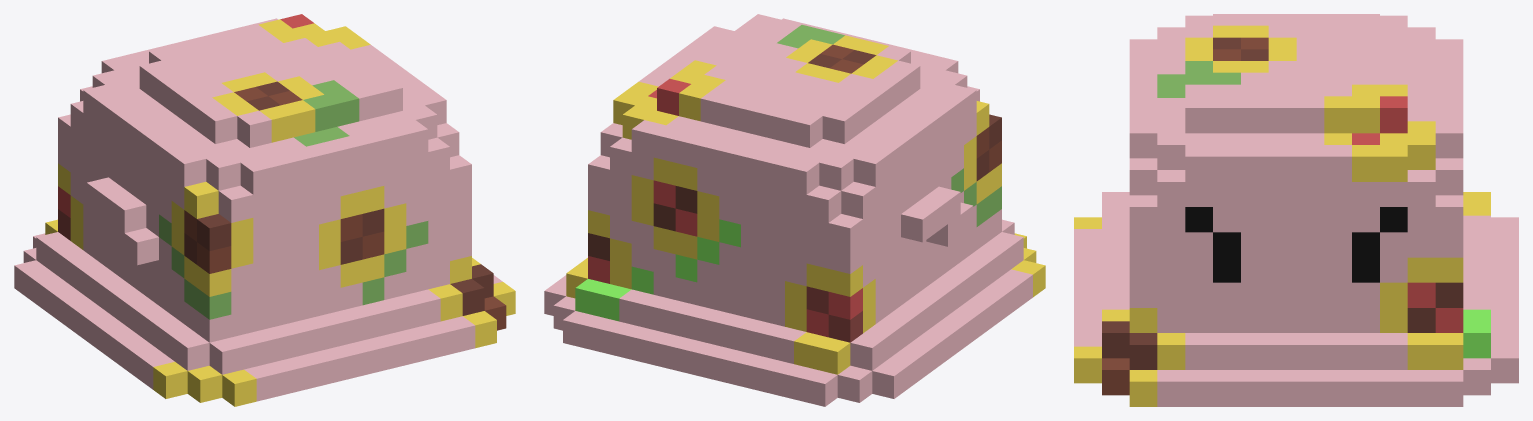
File: slime6.obj
The picture shows the model from 3 angles, left to right: view 1: azimuth 30°, elevation 25°; view 2: azimuth 150°, elevation 25°; view 3: azimuth 270°, elevation 25°; orthographic projection. The views are drawn at different scales.
Bounding box in the file's own units: 1.6 × 1 × 1.6.
1 material, 1 textured.
